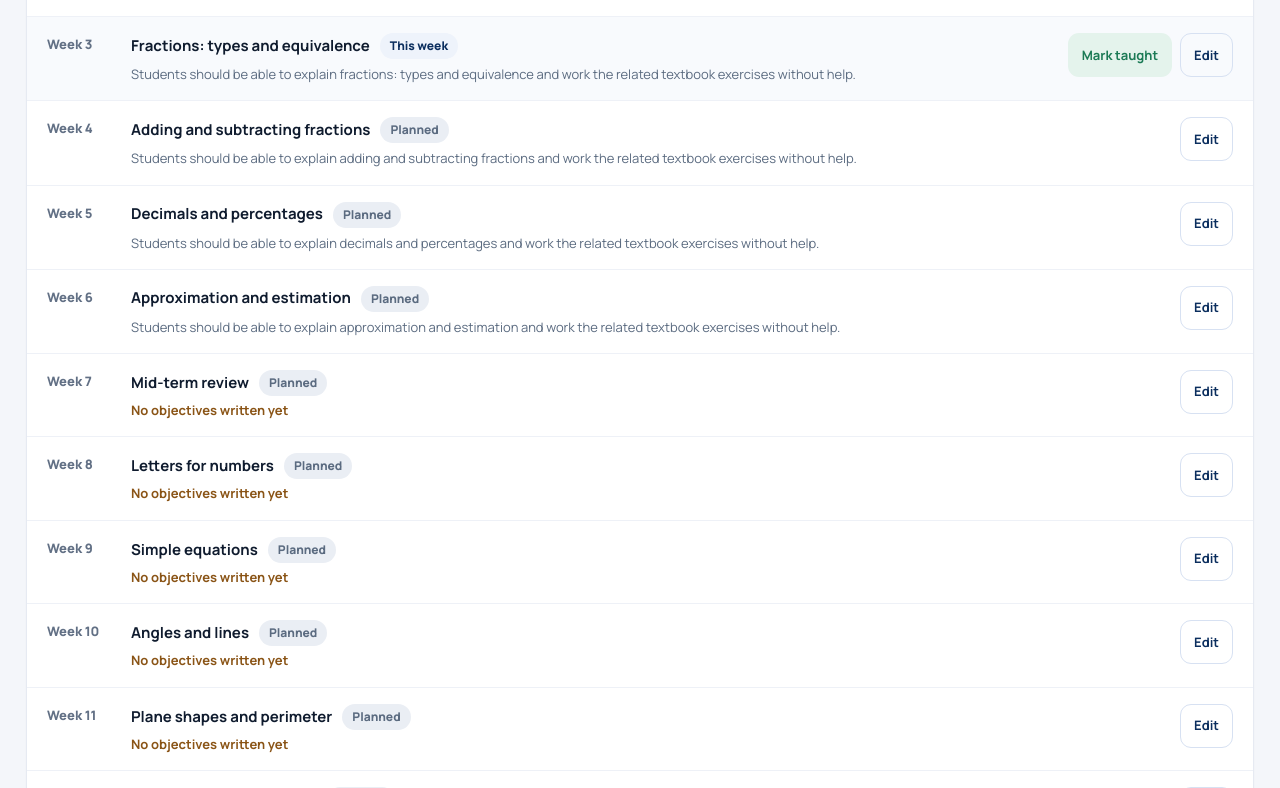
Test case: SubjectsScreen › edits a week's topic and objectives
The image size is (1280, 788).
(page scrolled)
Click the button named "Edit week 7".
click(1207, 392)  # box [1180, 370, 1233, 414]
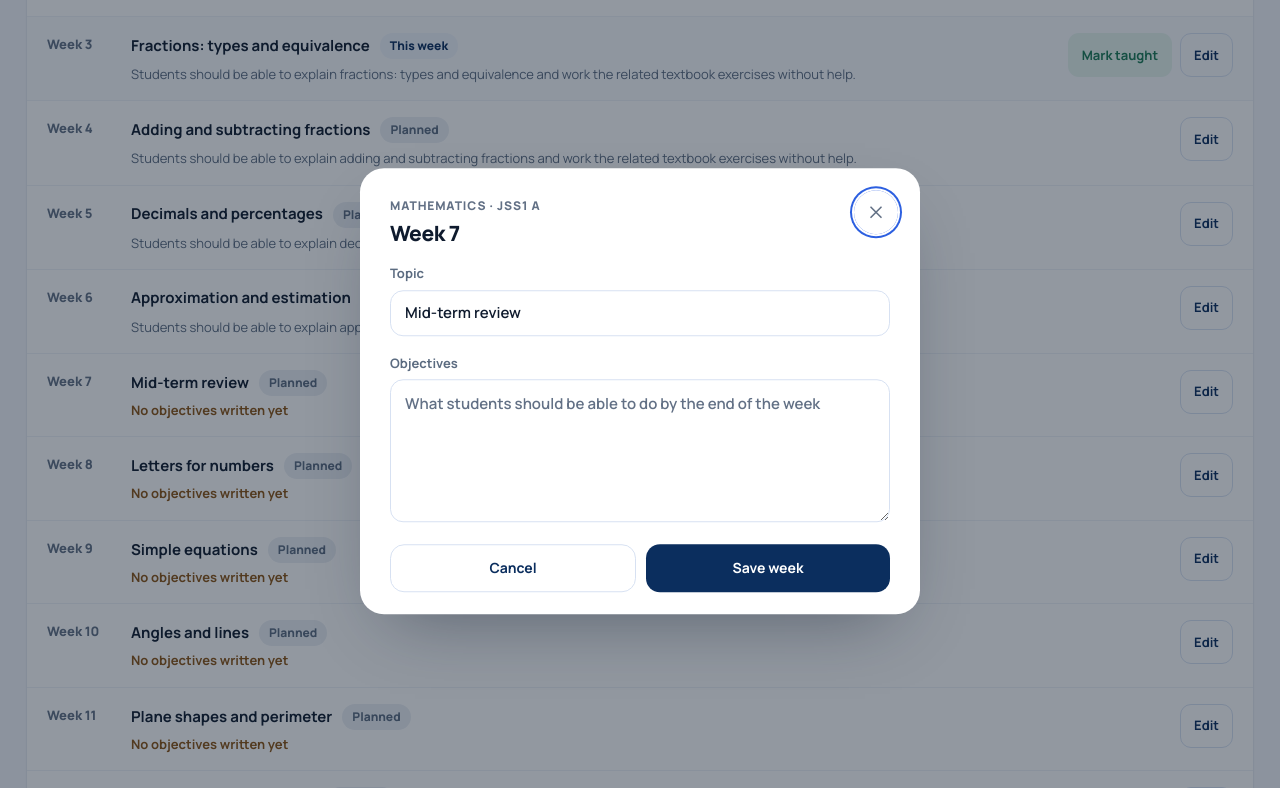
Expected: the text "Mathematics · JSS1 A" is shown, [390, 198, 540, 214]
Expected: the field labelled "Topic" holds "Mid-term review", [390, 290, 890, 336]
Type "  Revise weeks 1 to 6.  " into the text box labelled "Objectives".
click(640, 451); type("  Revise weeks 1 to 6.  ")  # box [390, 380, 890, 522]
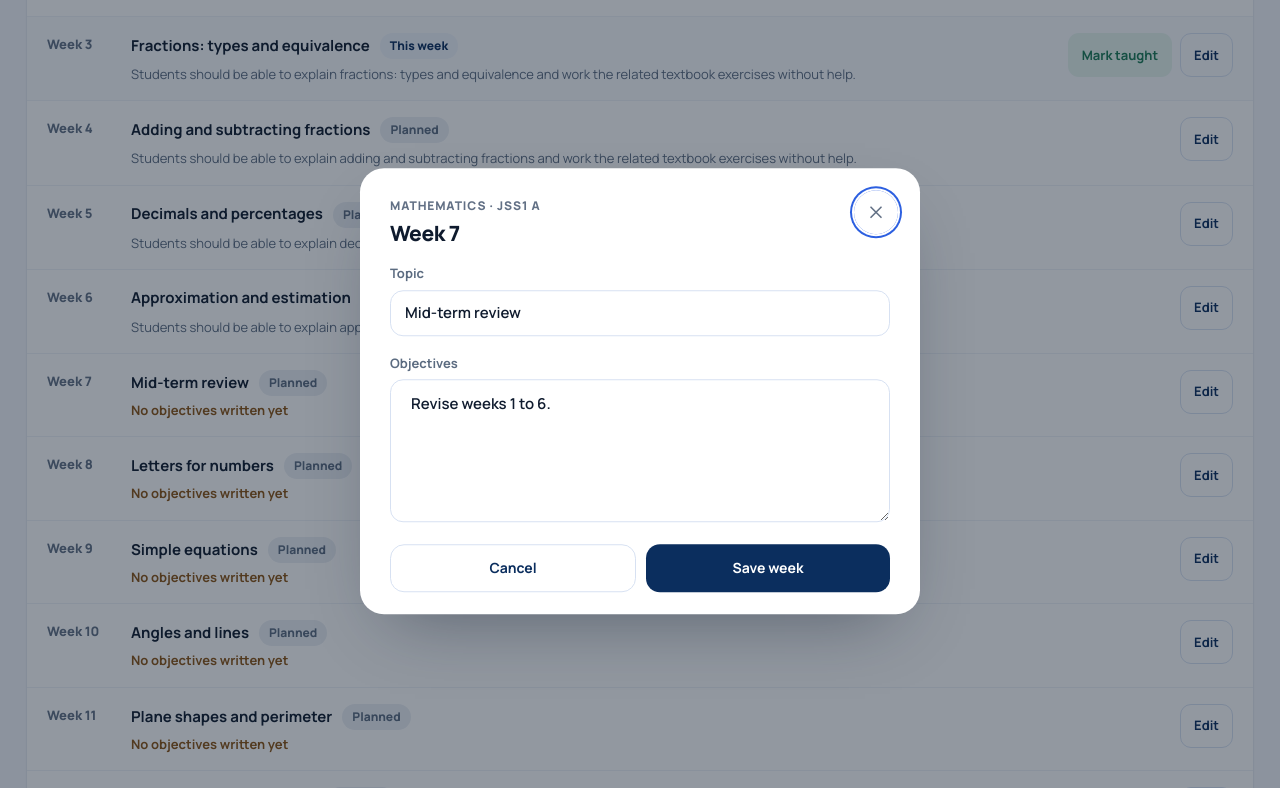
Click the button "Save week".
click(768, 568)  # box [646, 544, 890, 592]
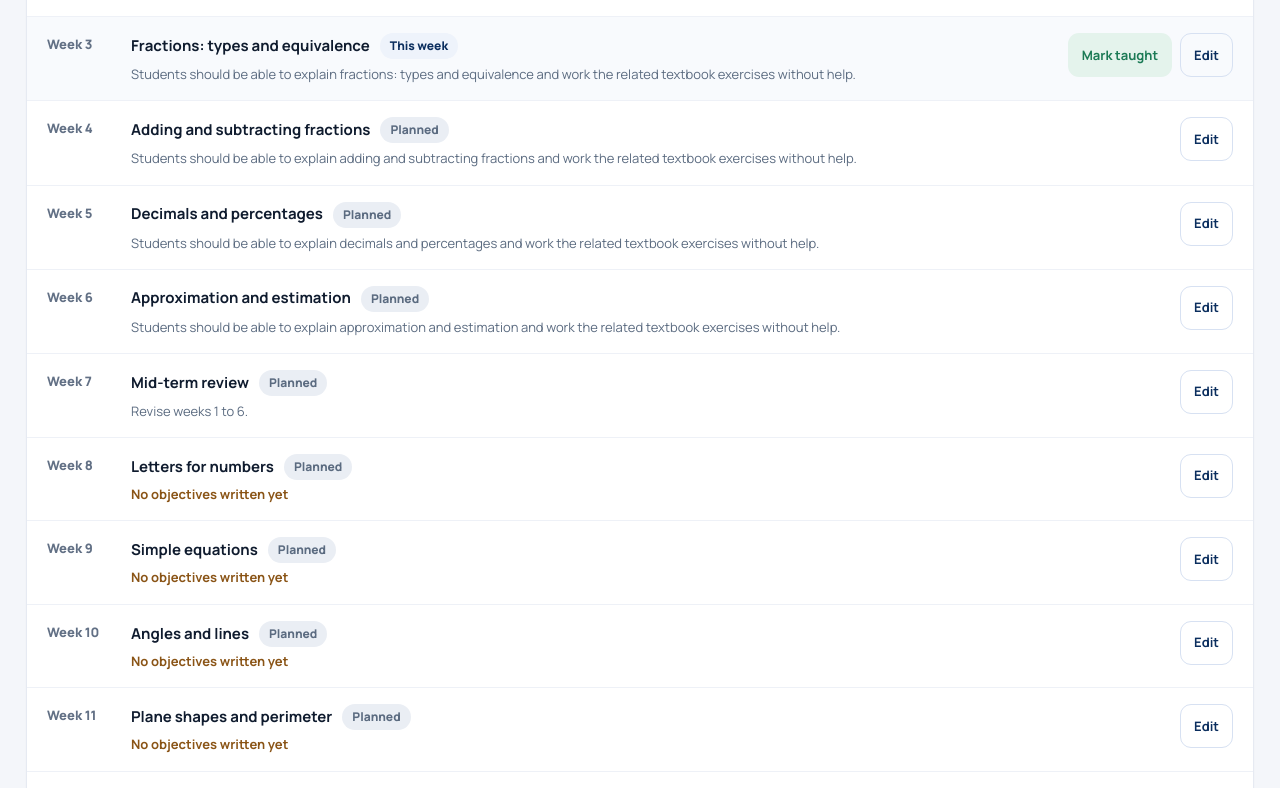
Expected: the dialog is gone
Expected: the list item "Week 7 Mid-term review Planned Revise weeks 1 to 6. Edit" is shown, [27, 353, 1253, 437]
